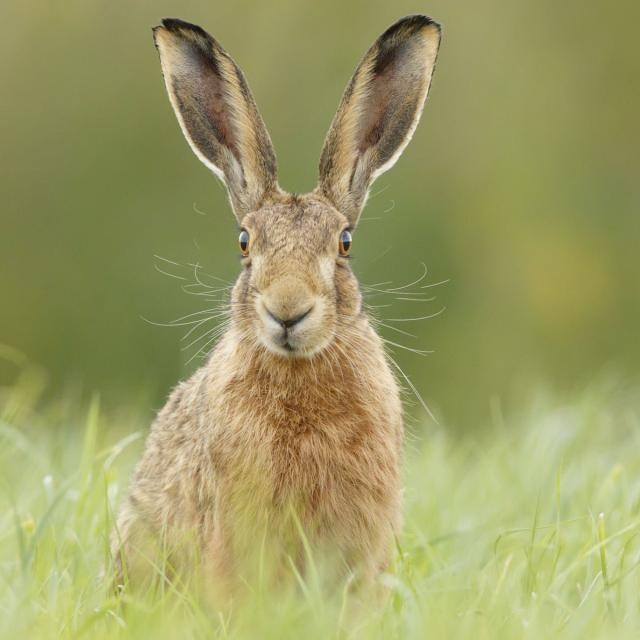Hare: (111, 13, 465, 604)
